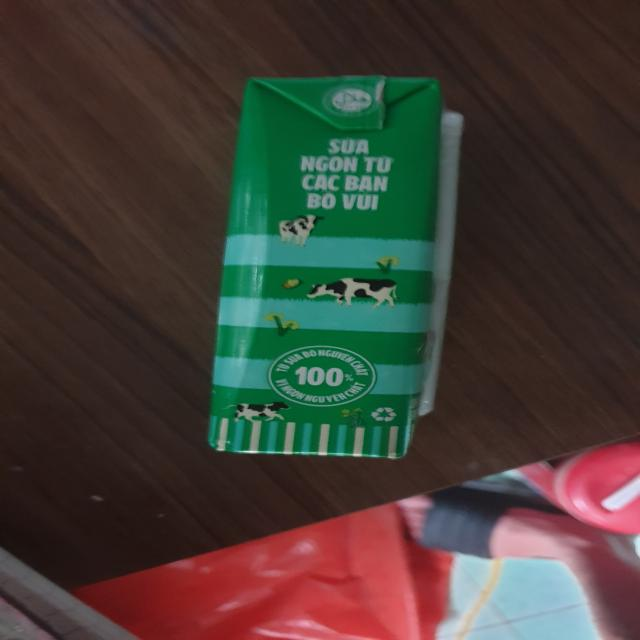Vina: (199, 73, 475, 468)
